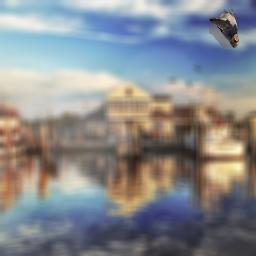Swallow: (209, 9, 239, 49)
